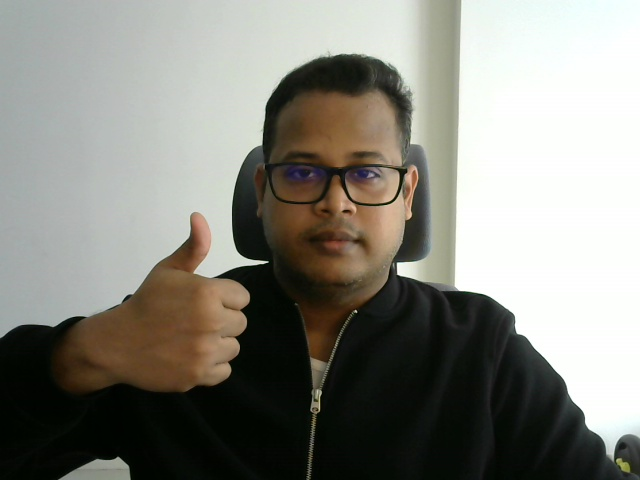ThumbsUp: (140, 212, 250, 394)
